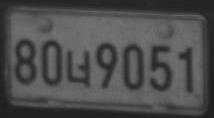0: (122, 43, 145, 91), (40, 39, 63, 85)
1: (176, 46, 198, 94)
5: (149, 44, 172, 91)
8: (14, 39, 38, 85)
9: (96, 42, 118, 89)
너: (66, 49, 91, 88)
